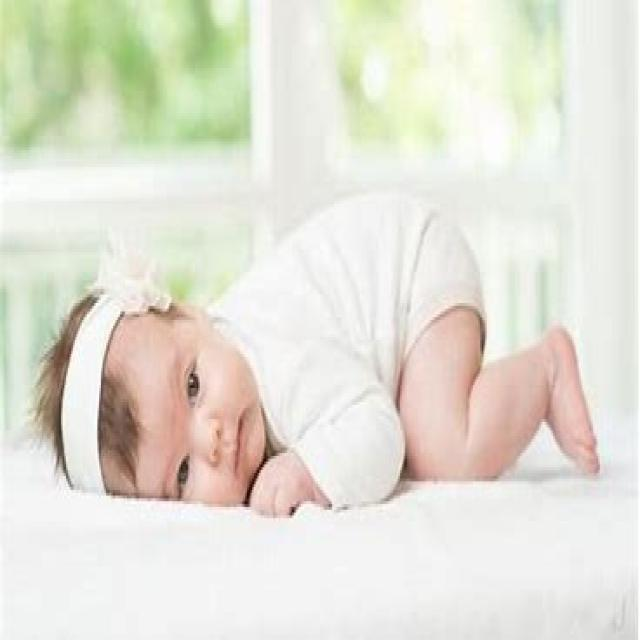lie: (55, 206, 597, 522)
